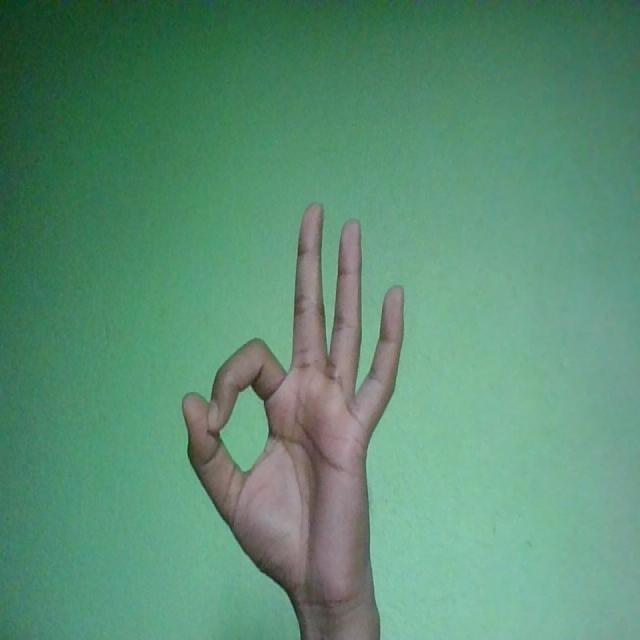Rock On: (182, 198, 404, 621)
